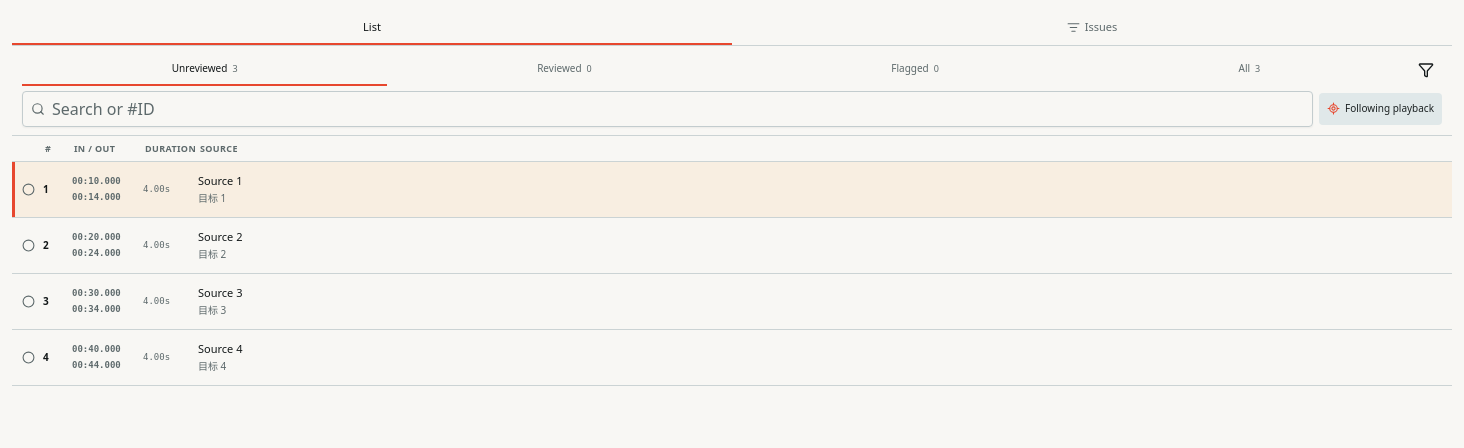
Scenario: batch bar › clears the selection from the bar
The width and height of the screenshot is (1464, 448).
Click the text "Source 3" at (220, 292), box [198,285,242,300]
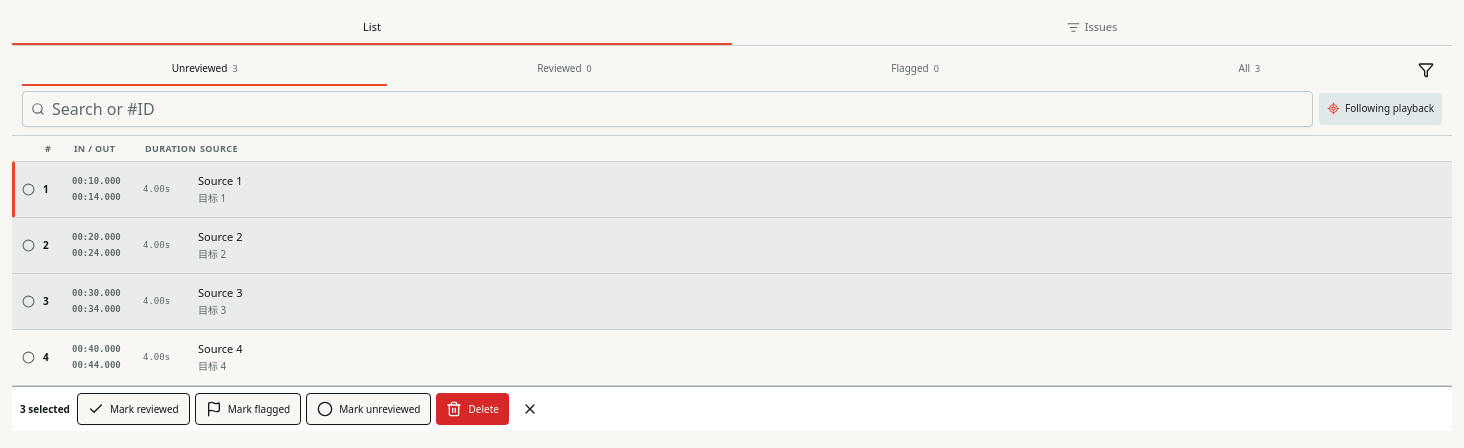
Click the button named "Clear selection" at (530, 409), box [514,393,546,425]
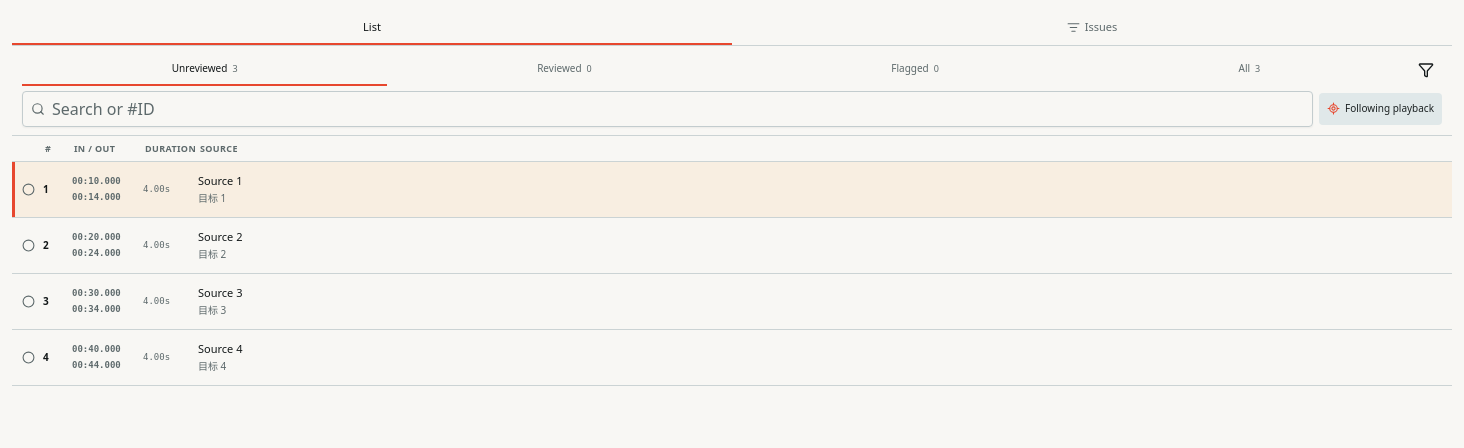
Check: the text "selected" is gone
